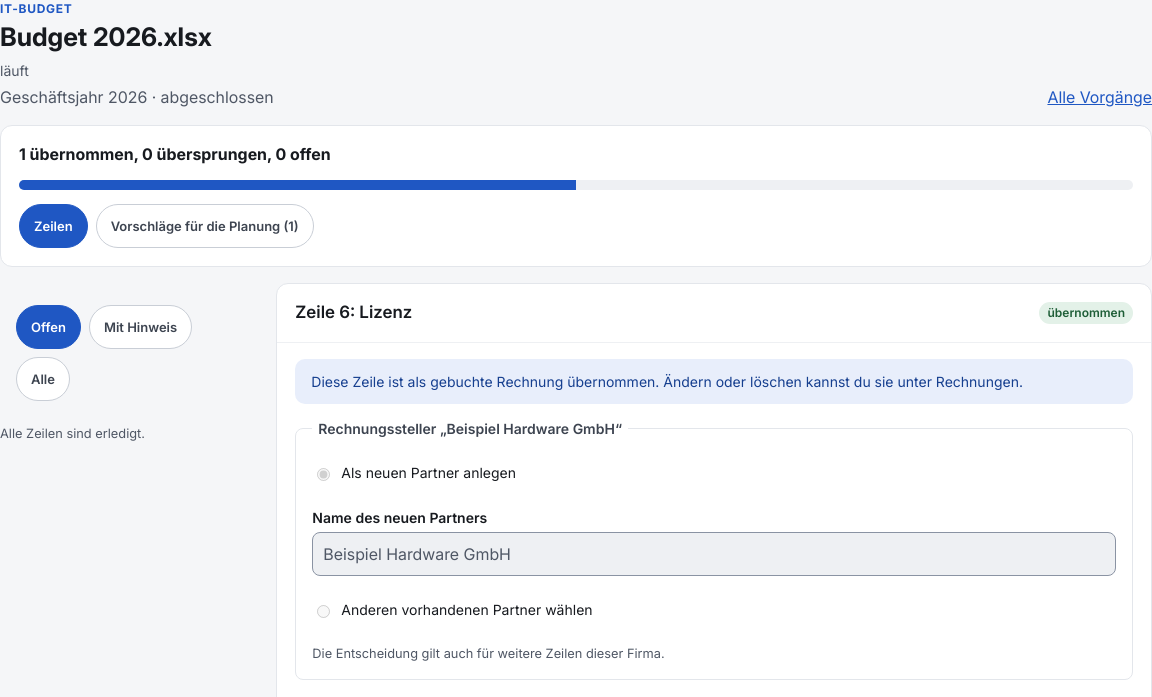
Scenario: Import › übernimmt Zeilen mit „Jährlich“ in die Planung, ihr Posten läuft weiter
Click the button "Vorschläge für die Planung (1)".
click(205, 226)  # box x1=96 y1=204 x2=314 y2=248
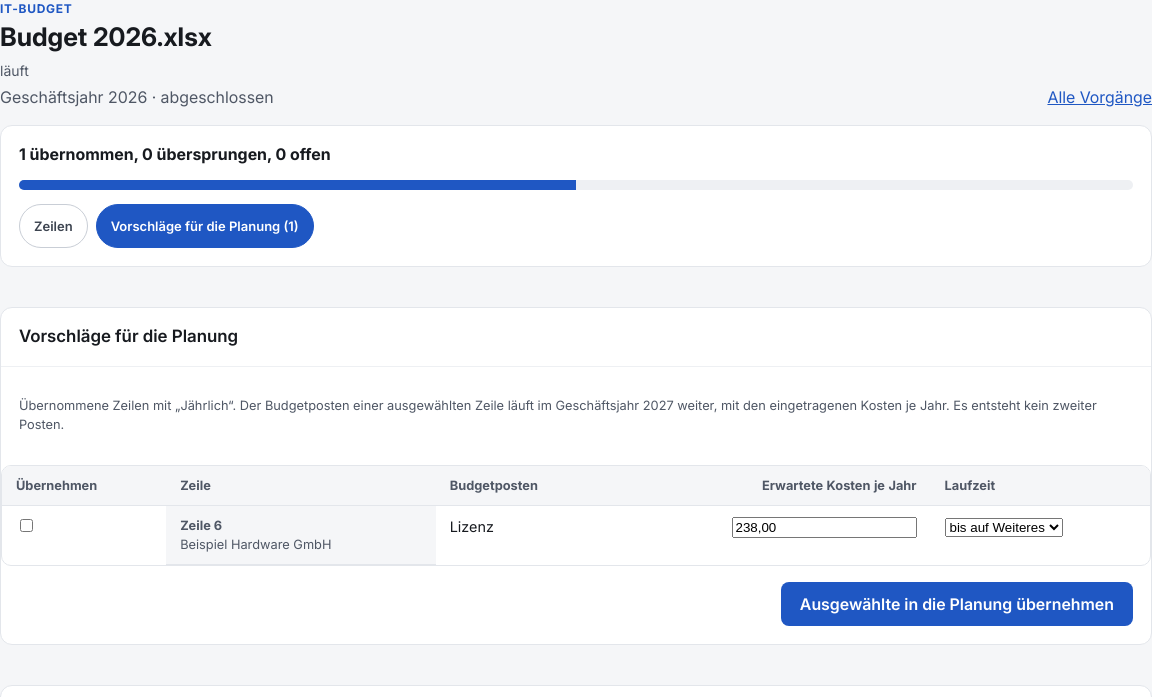
Check: the text "Lizenz" is shown, box x1=436 y1=506 x2=610 y2=565
Click the checkbox named "Zeile 6 übernehmen".
click(26, 526)  # box x1=20 y1=519 x2=33 y2=532
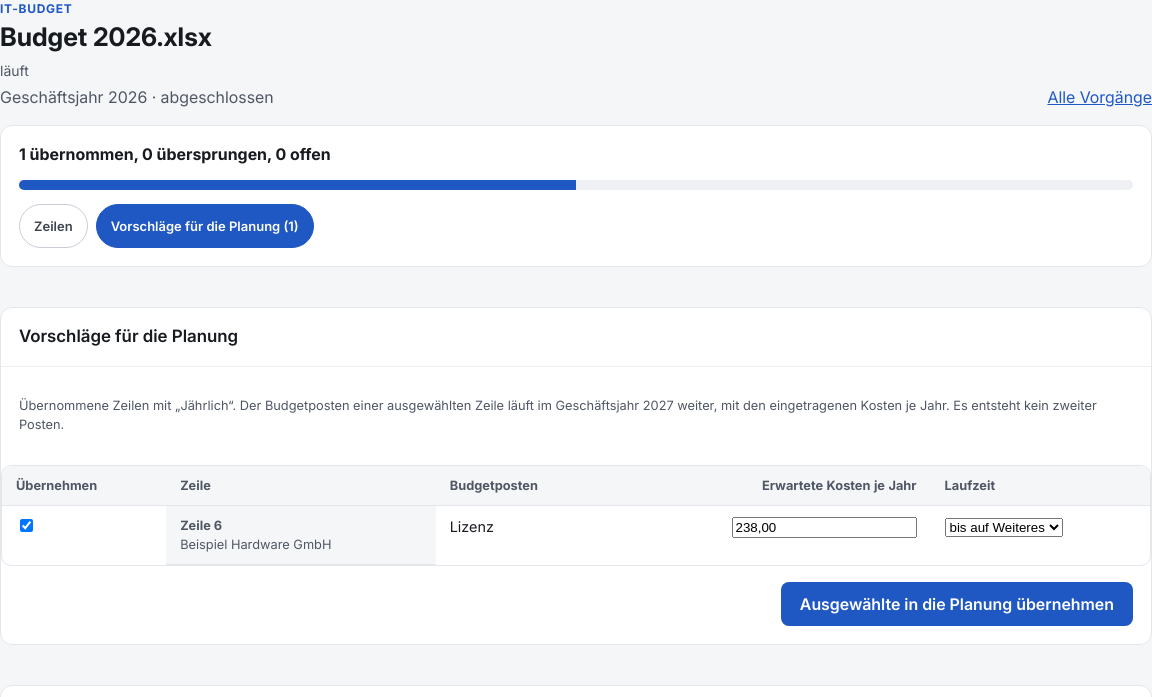
Replace the text in the field named "Erwartete Kosten je Jahr für Zeile 6" with "250,00" at (824, 528), box x1=732 y1=517 x2=916 y2=538
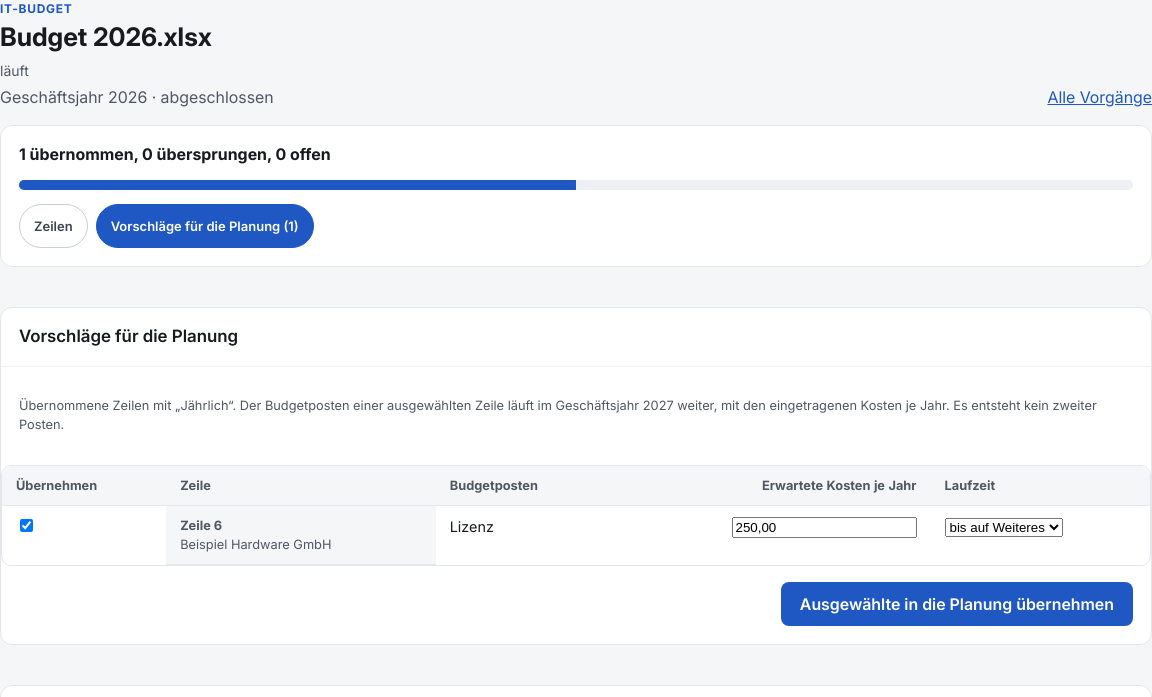
Select "bis 2027" in the dropdown named "Laufzeit für Zeile 6" at (1004, 528), box x1=944 y1=518 x2=1062 y2=537
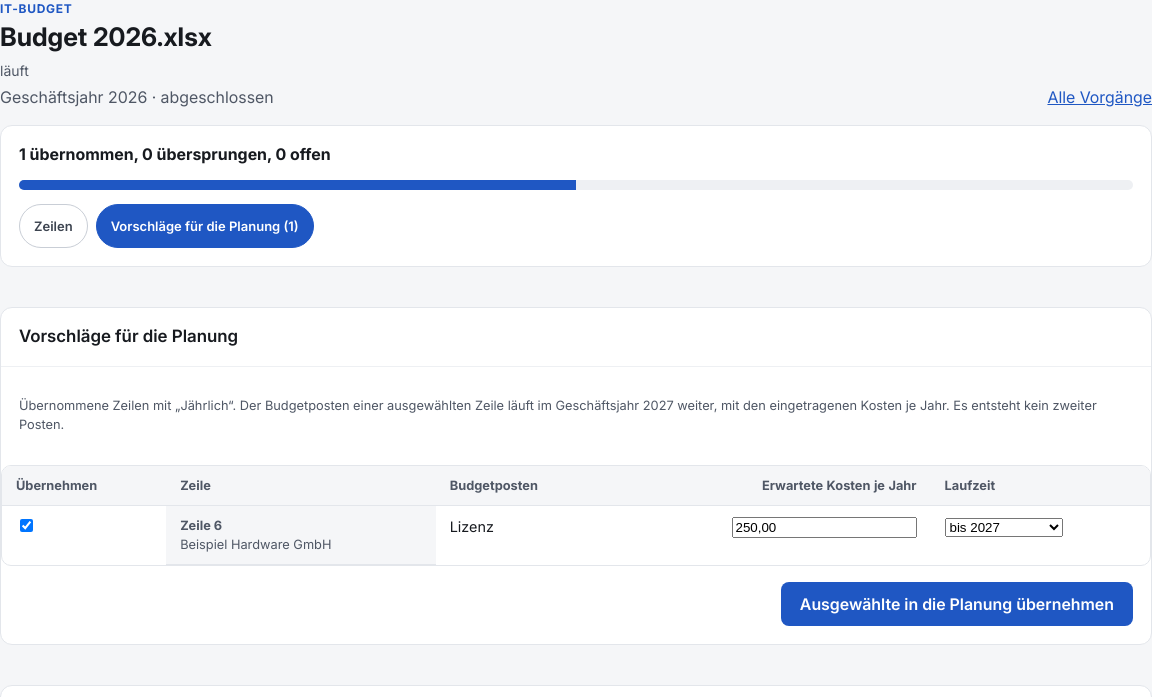
Click the button "Ausgewählte in die Planung übernehmen".
click(957, 604)  # box x1=781 y1=582 x2=1133 y2=626
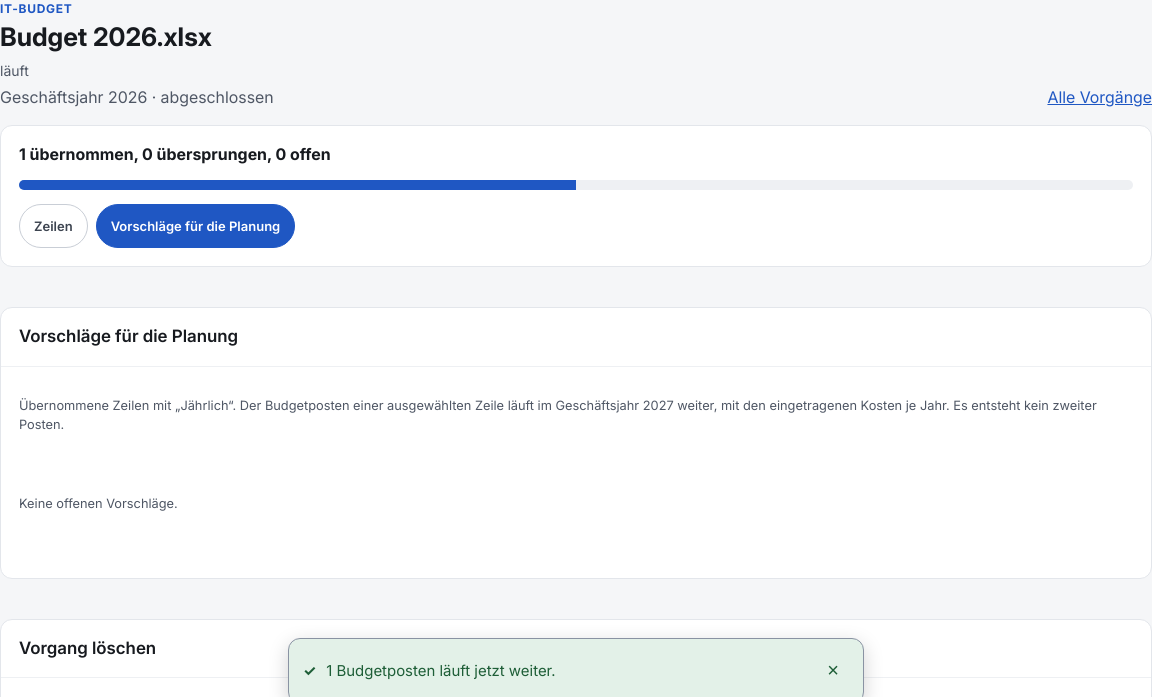
Check: the text "1 Budgetposten läuft jetzt weiter." is shown, box x1=326 y1=660 x2=556 y2=680
